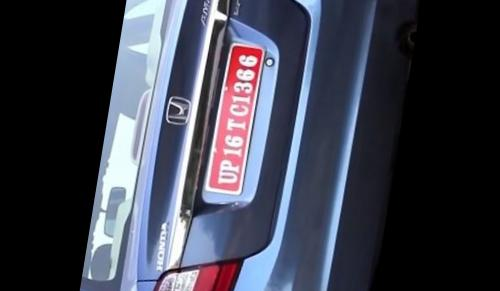plate: (193, 25, 277, 209)
